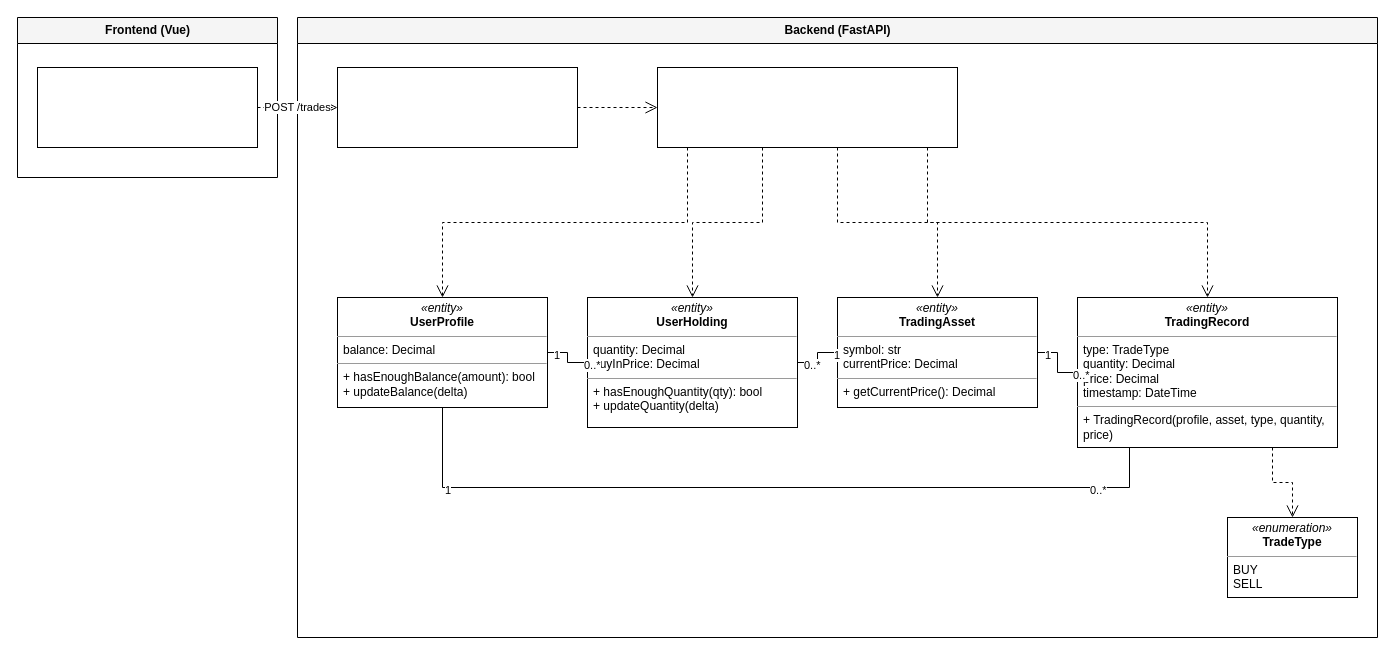
Image size: 1395x655. Some labels were removed from this diagram. Here are the shapes that lost their labels. From the top down, the centre of each, then its label:
the point at 147,107: «component» TradePage + submitTrade()
the point at 457,107: «boundary» TradeController + executeTrade(assetId, type, quantity)
the point at 807,107: «control» TradeService + trade(userId, assetId, type, quantity)
